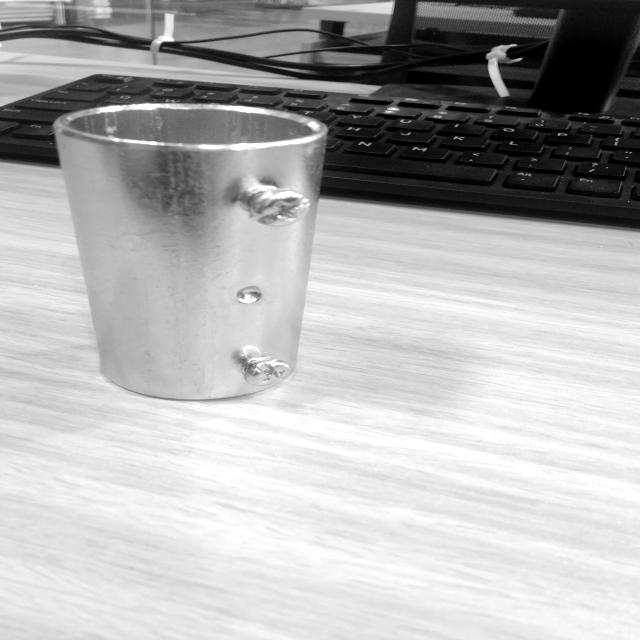Co_Lon: (49, 101, 327, 403)
